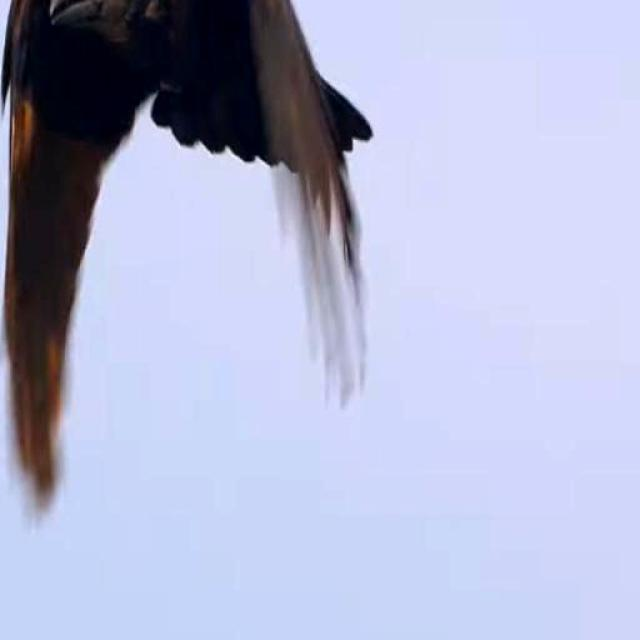airplane: (0, 0, 376, 544)
